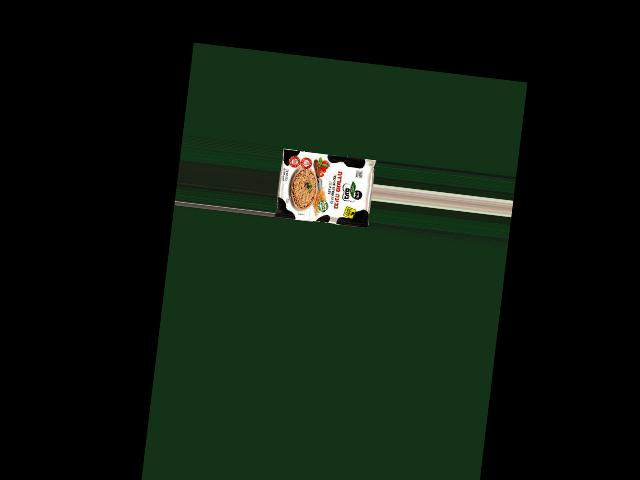cheese: (278, 137, 370, 229)
